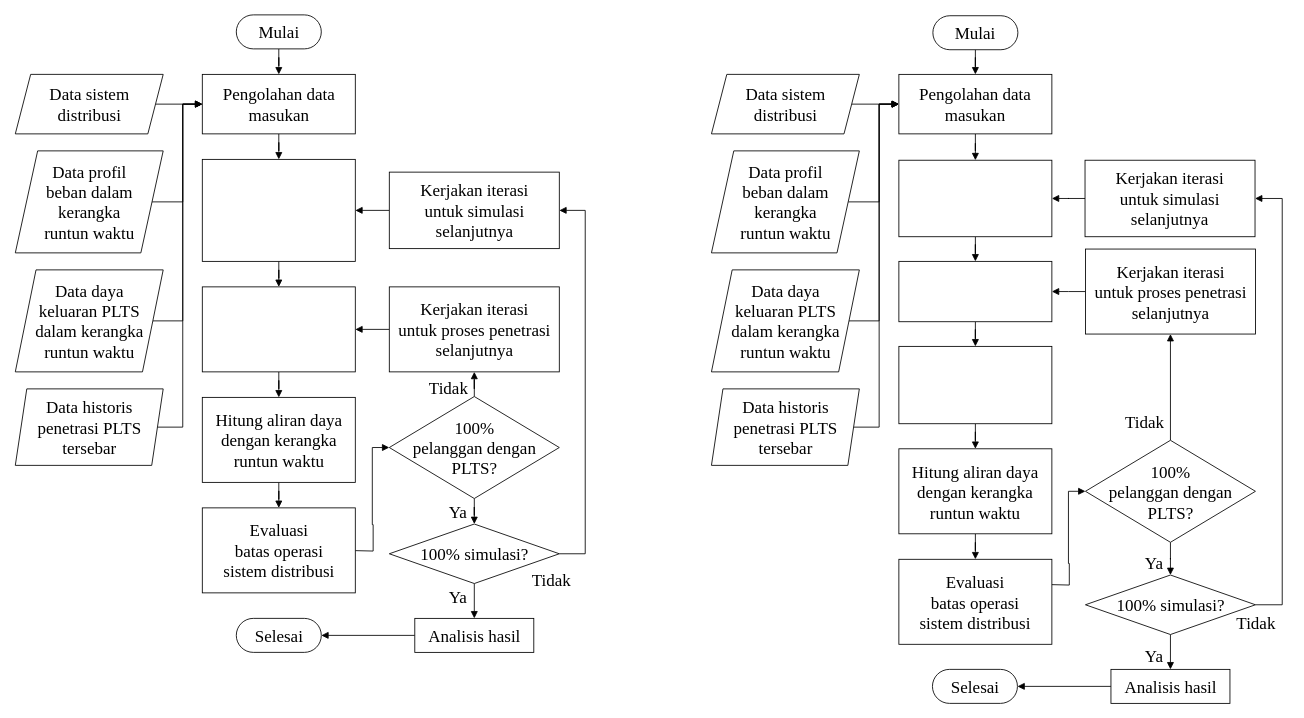
Some shapes in this 1304 by 718 pixel diagram are drawn without their labels. Each missing label, with the box of its shape:
Kerjakan iterasi ke- m simulasi Markov Chain Monte Carlo: (201, 159, 355, 261)
Kerjakan iterasi ke- m simulasi Monte Carlo: (898, 159, 1052, 237)
Penyebaran PLTS dengan Markov Chain Monte Carlo: (201, 286, 355, 372)
Pilih acak pelanggan PLTS: (898, 261, 1052, 322)
Tentukan ukuran daya PLTS dan lokasi secara acak: (898, 346, 1052, 424)
